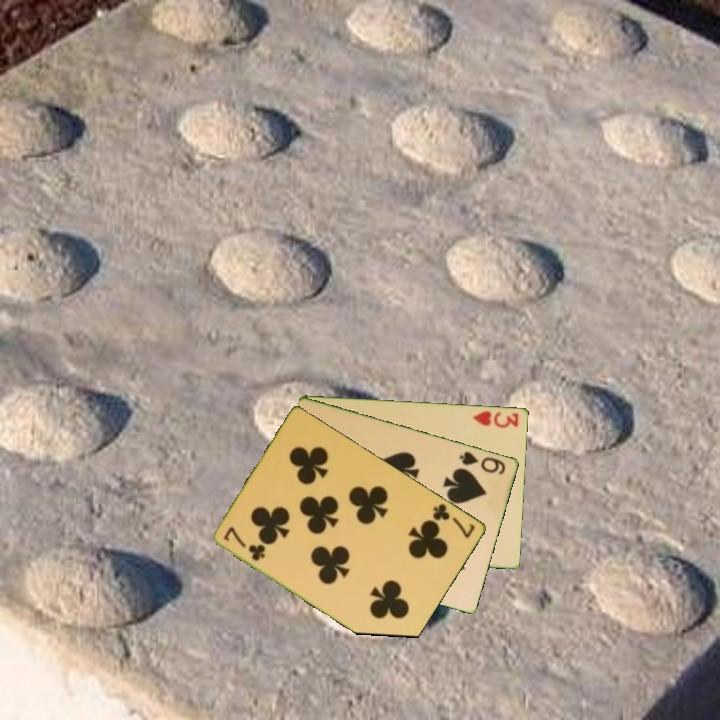3h: (469, 407, 522, 430)
6s: (456, 448, 509, 477)
7c: (429, 500, 478, 541), (220, 523, 269, 564)
